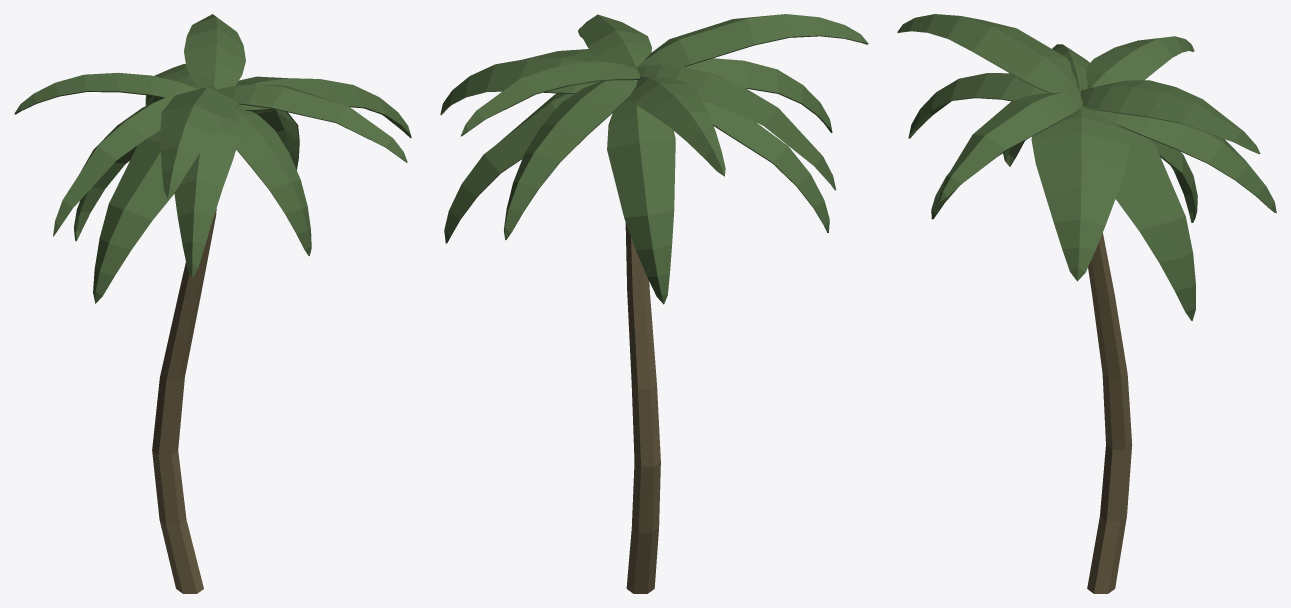
The model's file is PalmTree_3.glb.
The picture shows the model from 3 angles, left to right: view 1: azimuth 30°, elevation 25°; view 2: azimuth 150°, elevation 25°; view 3: azimuth 270°, elevation 25°; orthographic projection.
Visible parts, largest first — view 1: PalmTree_3; view 2: PalmTree_3; view 3: PalmTree_3.
Part boxes in pixels (x1=…): PalmTree_3: x1=14, y1=14, x2=411, y2=593; PalmTree_3: x1=440, y1=14, x2=868, y2=593; PalmTree_3: x1=897, y1=14, x2=1276, y2=593.
Size of the model in its own units: 2.88 by 3.93 by 2.51.
